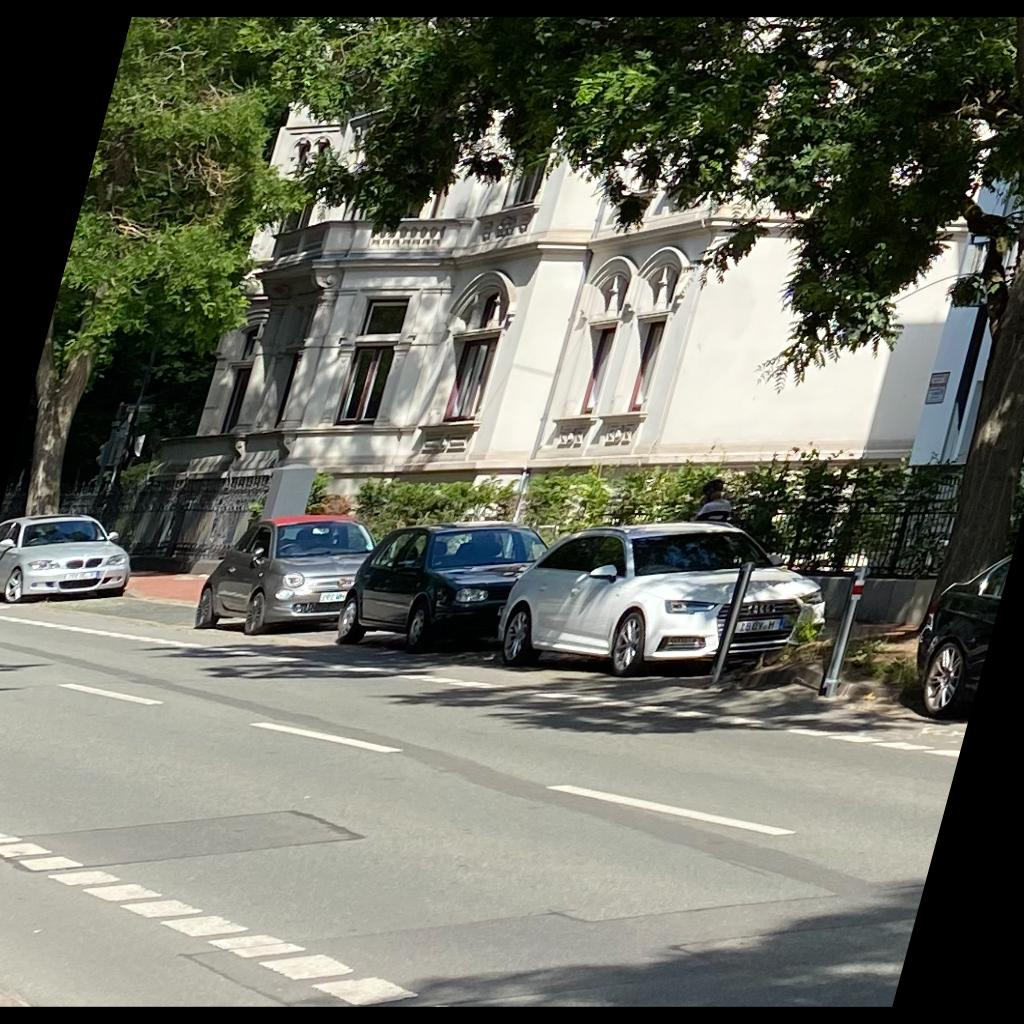tree: (285, 17, 1023, 633), (1, 17, 493, 519)
